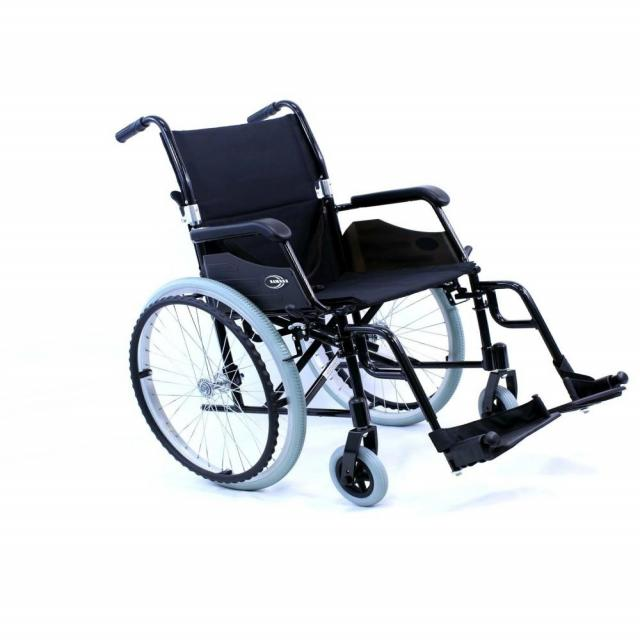wheelchair: (99, 78, 640, 536)
